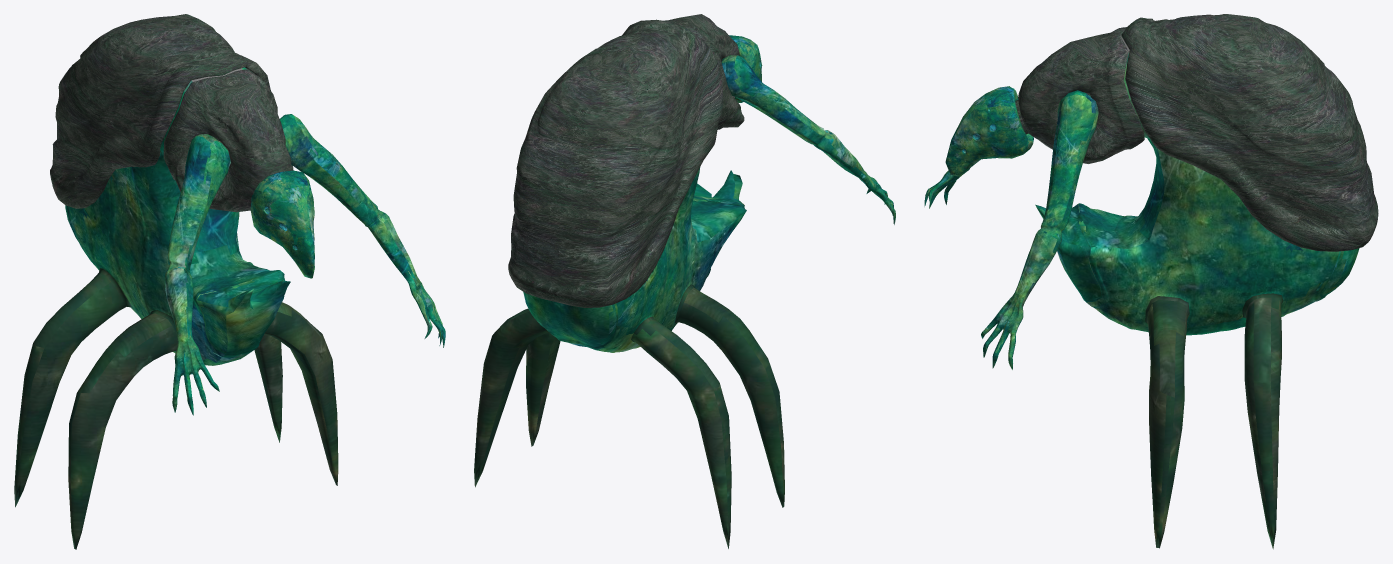
File: Aranar.0024.obj
3 views of the same model, side by side, from view 1: azimuth 30°, elevation 25°; view 2: azimuth 150°, elevation 25°; view 3: azimuth 270°, elevation 25° (orthographic). The views are drawn at different scales.
Bounding box in the file's own units: 2.58 × 3.83 × 3.41.
5 materials, 4 textured.
